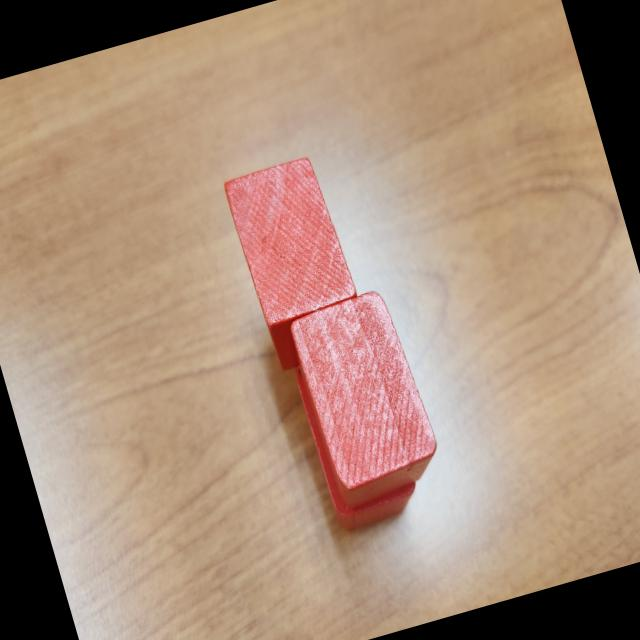red: (284, 282, 449, 510), (221, 151, 366, 353), (292, 344, 423, 532), (239, 222, 371, 376)
